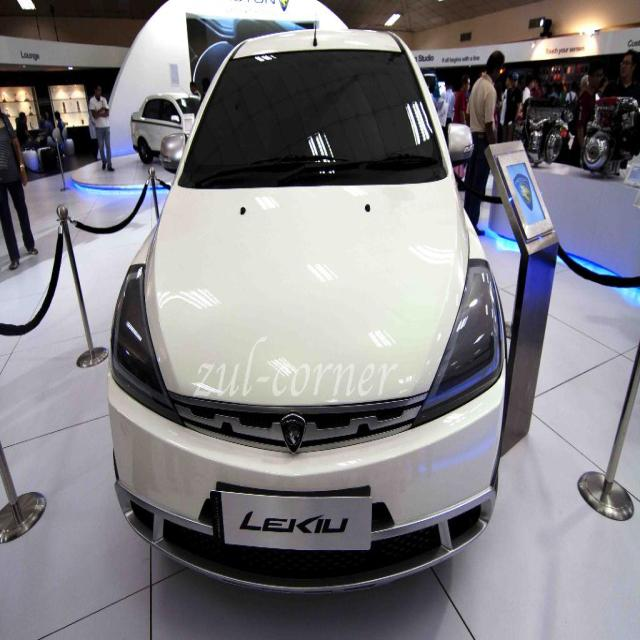car: (103, 7, 508, 599)
